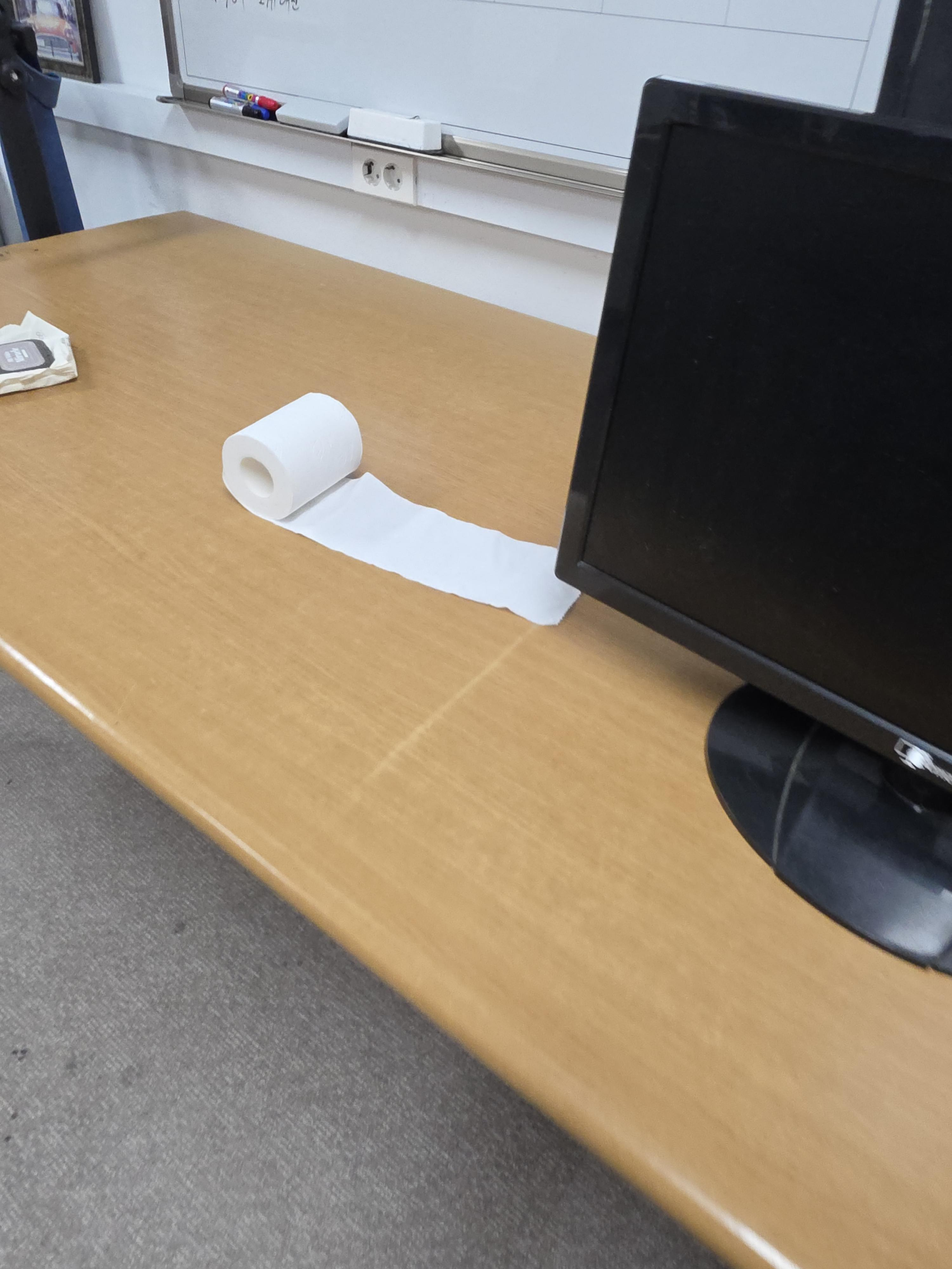tissue: (221, 392, 581, 626)
